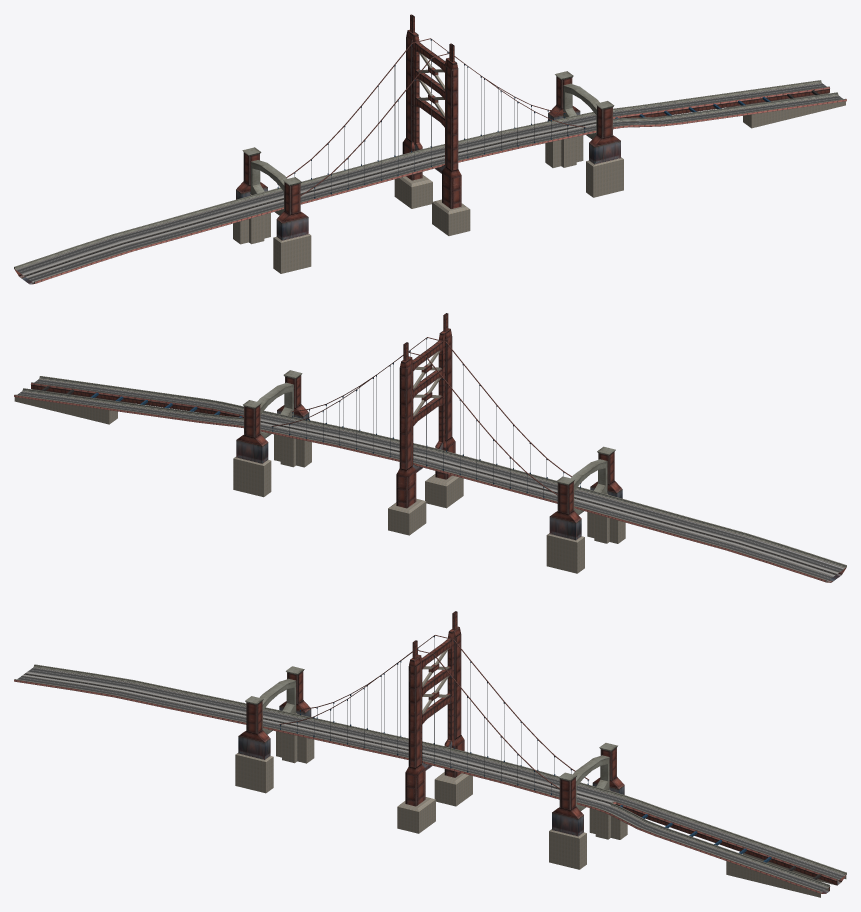
File: Bridge_Road_Lowpoly_2.glb
3 views of the same model, one above another, from view 1: azimuth 30°, elevation 25°; view 2: azimuth 150°, elevation 25°; view 3: azimuth 330°, elevation 25° (orthographic).
Visible parts, largest first — view 1: Bridge_Bridge_0, Bridge_Concrette_0, road_Road_0, sidewalk_Side Walk_0; view 2: Bridge_Bridge_0, Bridge_Concrette_0, road_Road_0, sidewalk_Side Walk_0; view 3: Bridge_Bridge_0, road_Road_0, Bridge_Concrette_0, sidewalk_Side Walk_0.
Part boxes in pixels (x1,y1,x2,y2): Bridge_Bridge_0: (14,14,846,284); Bridge_Concrette_0: (233,52,845,273); road_Road_0: (16,83,842,282); sidewalk_Side Walk_0: (16,83,838,282); Bridge_Bridge_0: (14,313,846,582); Bridge_Concrette_0: (14,351,625,573); road_Road_0: (17,379,844,580); sidewalk_Side Walk_0: (22,378,844,580); Bridge_Bridge_0: (14,611,846,893); road_Road_0: (17,668,844,891); Bridge_Concrette_0: (235,649,846,897); sidewalk_Side Walk_0: (22,667,844,892).
Size of the model in its own units: 829 by 180 by 95.94.
4 materials, 4 textured.
